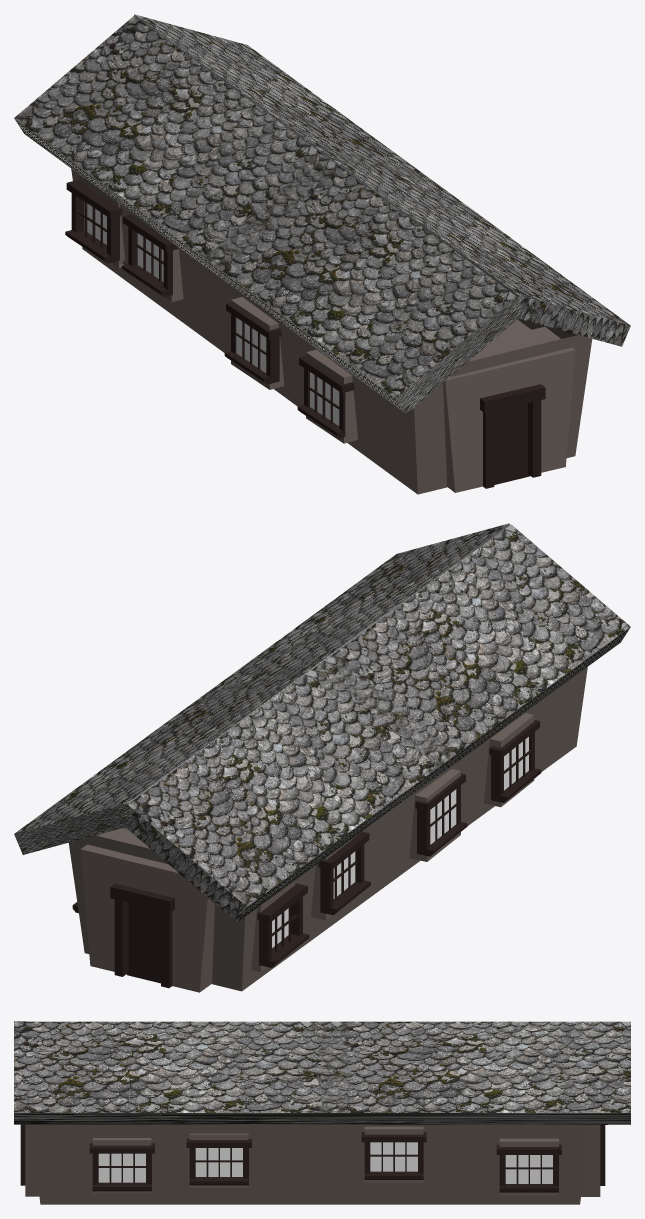
The model's file is longhouse.glb.
3 views of the same model, one above another, from view 1: azimuth 30°, elevation 25°; view 2: azimuth 150°, elevation 25°; view 3: azimuth 270°, elevation 25° (orthographic). The views are drawn at different scales.
Parts seen in each view (by area): view 1: Cube.003, Cube, _cs_cube, object2, Cube.001, object2.008, object1.003, object2.010, object1.002, object2.013, object2.014, object1.008 (+1 smaller); view 2: Cube.003, Cube, _cs_cube, object2.001, Cube.002, object2.008, object2.010, object1.002, object2.014, object1.003, object2.013, object1.008 (+1 smaller); view 3: Cube, _cs_cube, object1.004, object1.005, object1.014, object1.000, object2.002, object2.001, object2.006, object2.007, object2.003, object2 (+4 smaller).
Part boxes in pixels (x1=…): Cube.003: x1=14, y1=16, x2=525, y2=413; Cube: x1=134, y1=14, x2=630, y2=346; _cs_cube: x1=71, y1=168, x2=592, y2=494; object2: x1=443, y1=326, x2=575, y2=492; Cube.001: x1=494, y1=403, x2=529, y2=484; object2.008: x1=65, y1=179, x2=122, y2=263; object1.003: x1=306, y1=349, x2=357, y2=443; object2.010: x1=122, y1=214, x2=178, y2=297; object1.002: x1=231, y1=297, x2=284, y2=389; object2.013: x1=224, y1=302, x2=281, y2=384; object2.014: x1=297, y1=356, x2=354, y2=438; object1.008: x1=132, y1=213, x2=183, y2=302; Cube.003: x1=125, y1=524, x2=630, y2=922; Cube: x1=14, y1=523, x2=509, y2=854; _cs_cube: x1=68, y1=667, x2=587, y2=991; object2.001: x1=80, y1=828, x2=214, y2=992; Cube.002: x1=127, y1=903, x2=160, y2=983; object2.008: x1=257, y1=883, x2=309, y2=967; object2.010: x1=318, y1=831, x2=370, y2=915; object1.002: x1=409, y1=769, x2=460, y2=861; object2.014: x1=489, y1=720, x2=541, y2=802; object1.003: x1=483, y1=713, x2=534, y2=807; object2.013: x1=415, y1=773, x2=467, y2=856; object1.008: x1=311, y1=833, x2=359, y2=920; Cube: x1=14, y1=1021, x2=630, y2=1124; _cs_cube: x1=32, y1=1124, x2=588, y2=1204; object1.004: x1=364, y1=1126, x2=423, y2=1182; object1.005: x1=499, y1=1138, x2=558, y2=1195; object1.014: x1=93, y1=1138, x2=151, y2=1193; object1.000: x1=189, y1=1133, x2=248, y2=1187; object2.002: x1=89, y1=1143, x2=154, y2=1191; object2.001: x1=581, y1=1124, x2=607, y2=1196; object2.006: x1=361, y1=1132, x2=426, y2=1179; object2.007: x1=496, y1=1144, x2=561, y2=1192; object2.003: x1=186, y1=1138, x2=251, y2=1185; object2: x1=20, y1=1124, x2=39, y2=1196.
Bounding box in the file's own units: 2.32 × 1.82 × 6.55.
4 materials, 1 textured.
